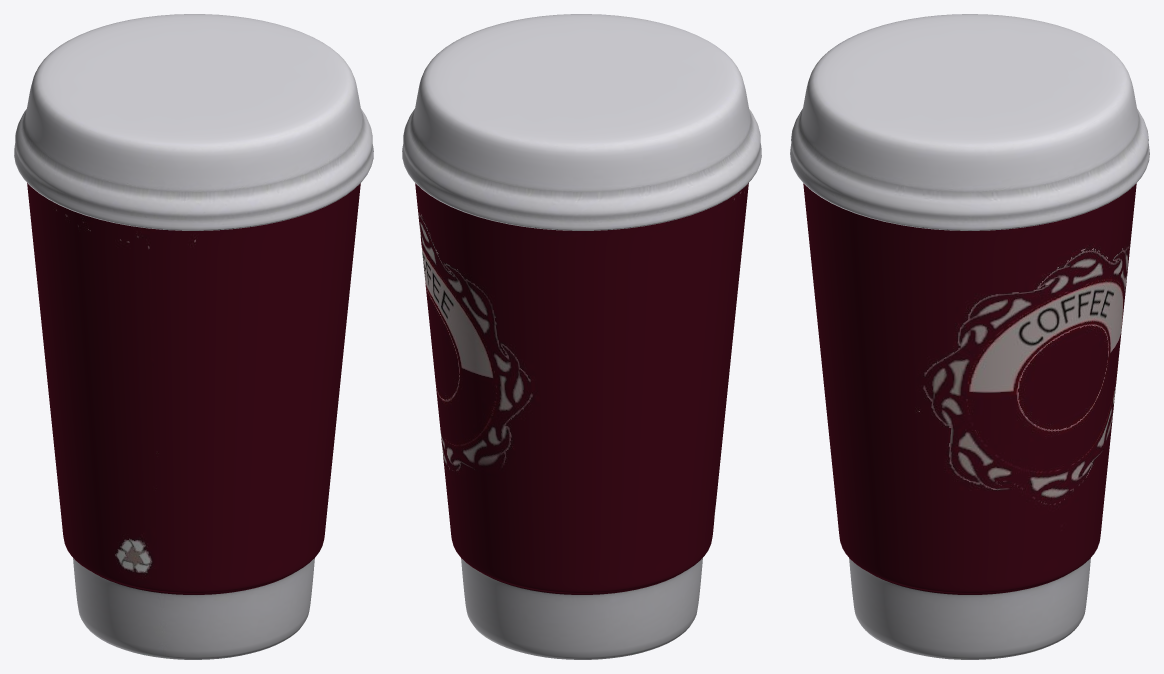
Rendered from costa_coffee_medium.dae.
3 views of the same model, side by side, from view 1: azimuth 30°, elevation 25°; view 2: azimuth 150°, elevation 25°; view 3: azimuth 270°, elevation 25° (orthographic).
Parts seen in each view (by area): view 1: 14039_To_go_coffee_cup_with_lid_v2_L3; view 2: 14039_To_go_coffee_cup_with_lid_v2_L3; view 3: 14039_To_go_coffee_cup_with_lid_v2_L3.
Part boxes in pixels (left/top/right/bottom): 14039_To_go_coffee_cup_with_lid_v2_L3: left=14, top=14, right=373, bottom=659; 14039_To_go_coffee_cup_with_lid_v2_L3: left=402, top=14, right=761, bottom=659; 14039_To_go_coffee_cup_with_lid_v2_L3: left=790, top=14, right=1149, bottom=659.
Bounding box in the file's own units: 7.59 × 7.59 × 12.51.
1 material, 1 textured.
